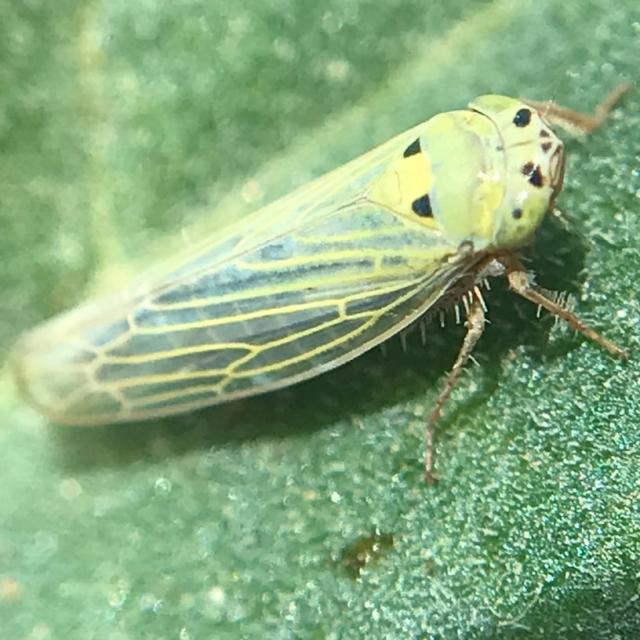Yechan: (22, 89, 621, 457)
